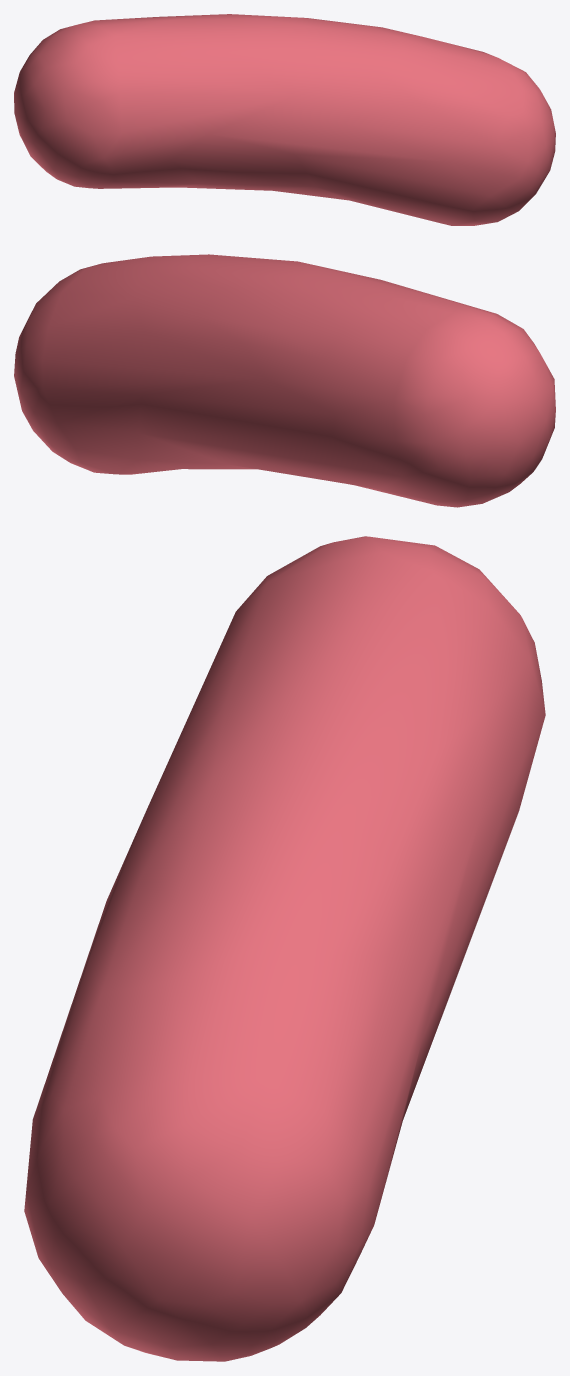
File: fma70456_fj3117.glb
3 renders of one model, top to bottom at view 1: azimuth 30°, elevation 25°; view 2: azimuth 150°, elevation 25°; view 3: azimuth 270°, elevation 25°, orthographic. The views are drawn at different scales.
Parts seen in each view (by area): view 1: FMA70456_FJ3117; view 2: FMA70456_FJ3117; view 3: FMA70456_FJ3117.
Boxes of the visible parts, x1,y1,x2,y2 form: FMA70456_FJ3117: (14,14,555,225); FMA70456_FJ3117: (14,254,555,507); FMA70456_FJ3117: (24,536,545,1361).
Size of the model in its own units: 0.0121 by 0.00583 by 0.00575.
